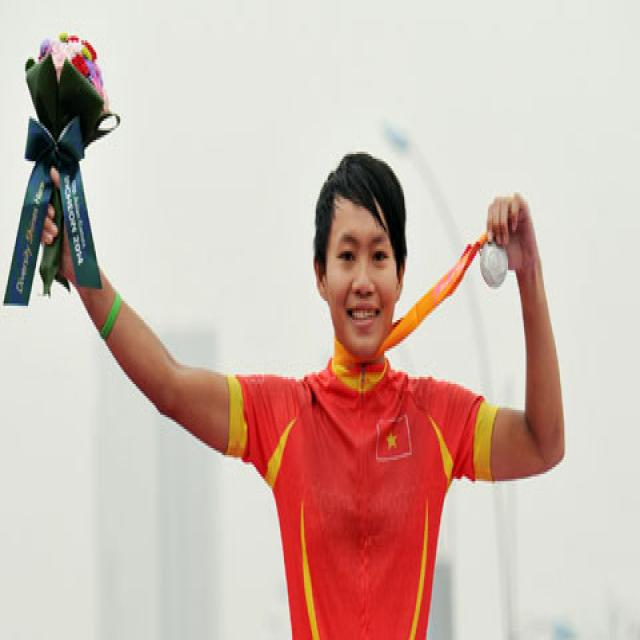Nonhelmet: (310, 145, 410, 360)
